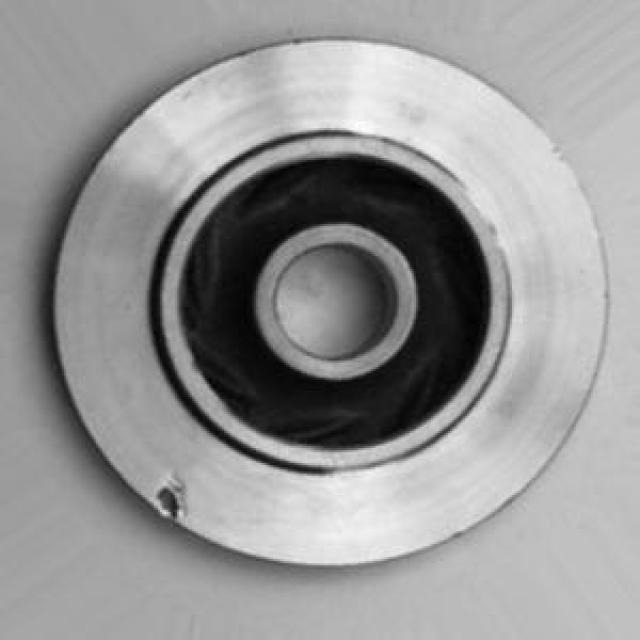Defect: (152, 469, 187, 524)
